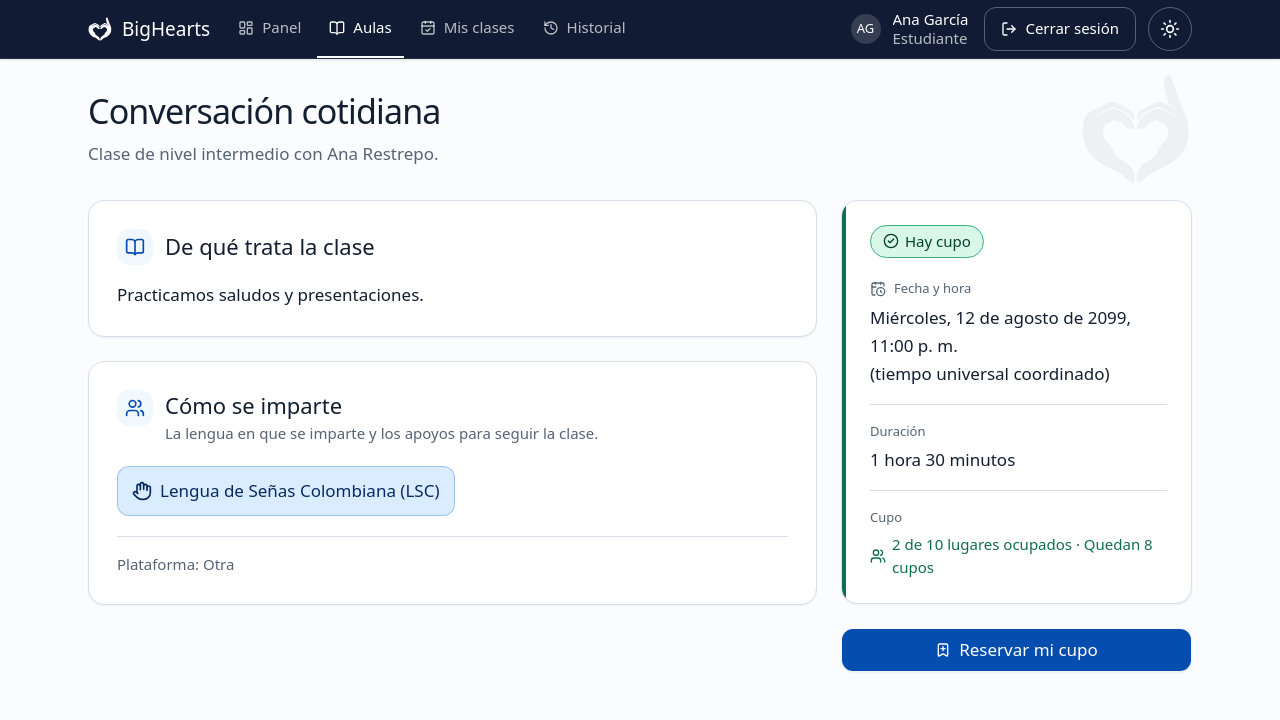
Test: AulaDetallePage — reservar un cupo (HU-301) › CLASSROOM_FULL muestra su mensaje literal
Click the button "Reservar mi cupo": [1016, 650] box [841,628,1192,672]
(page scrolled)
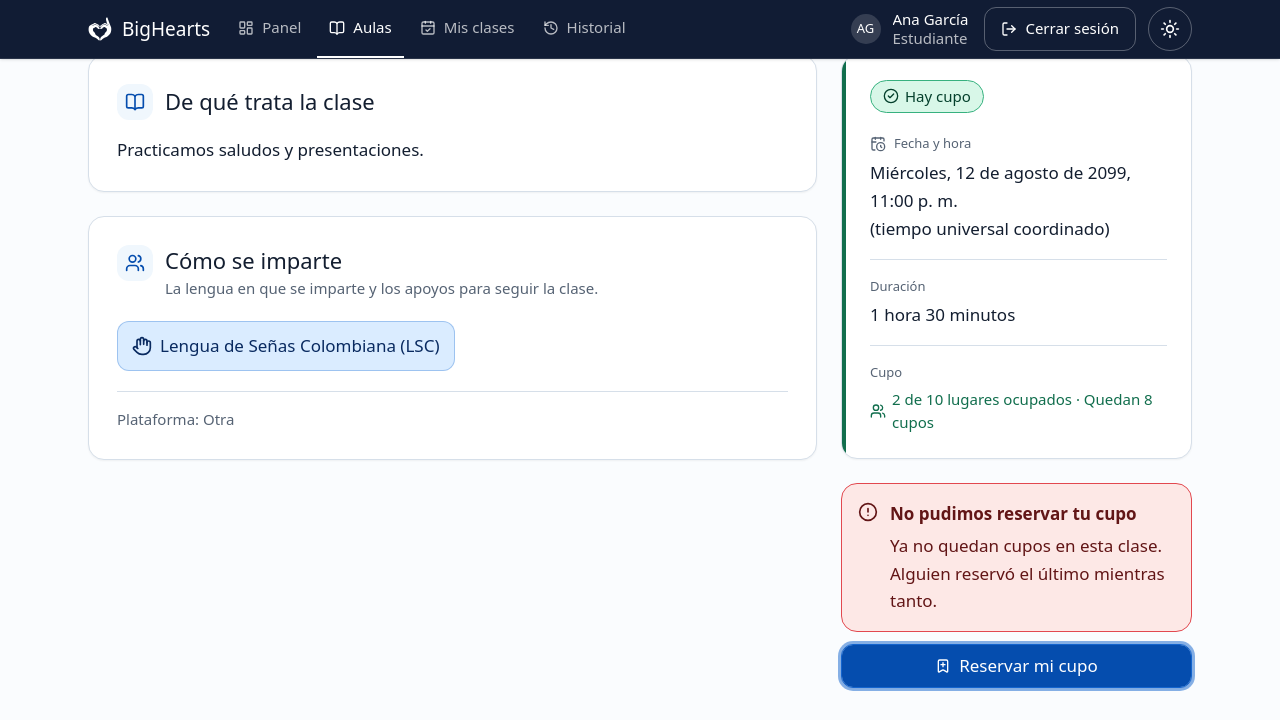
Check: the button "Reservar mi cupo" is shown, box [841,644,1192,688]
Check: the text "Ya no quedan cupos en esta clase. Alguien reservó el último mientras tanto." is shown, box [890,532,1175,615]
